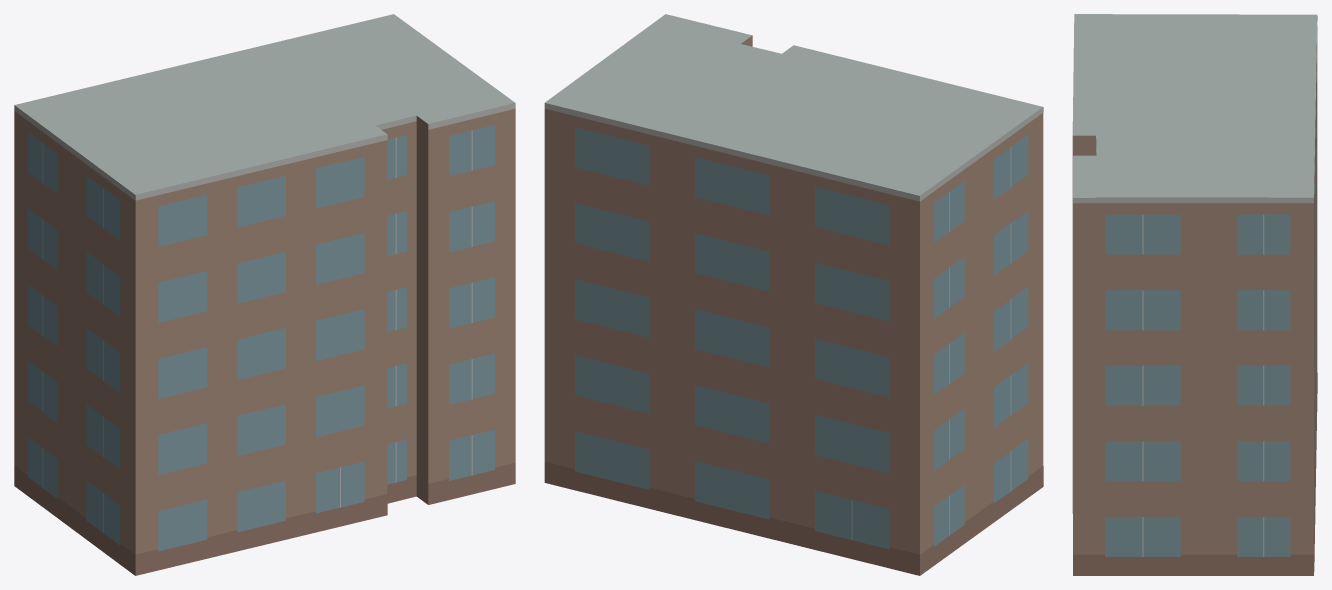
File: survey-upis-33041334.glb
The picture shows the model from 3 angles, left to right: view 1: azimuth 30°, elevation 25°; view 2: azimuth 150°, elevation 25°; view 3: azimuth 270°, elevation 25°; orthographic projection.
Parts seen in each view (by area): view 1: survey-upis-33041334.tmp; view 2: survey-upis-33041334.tmp; view 3: survey-upis-33041334.tmp.
Boxes of the visible parts, box(x1,y1,x2,y2) form: survey-upis-33041334.tmp: box(14, 14, 515, 575); survey-upis-33041334.tmp: box(544, 14, 1043, 575); survey-upis-33041334.tmp: box(1072, 14, 1317, 575).
Bounding box in the file's own units: 17 × 16.3 × 9.57.
